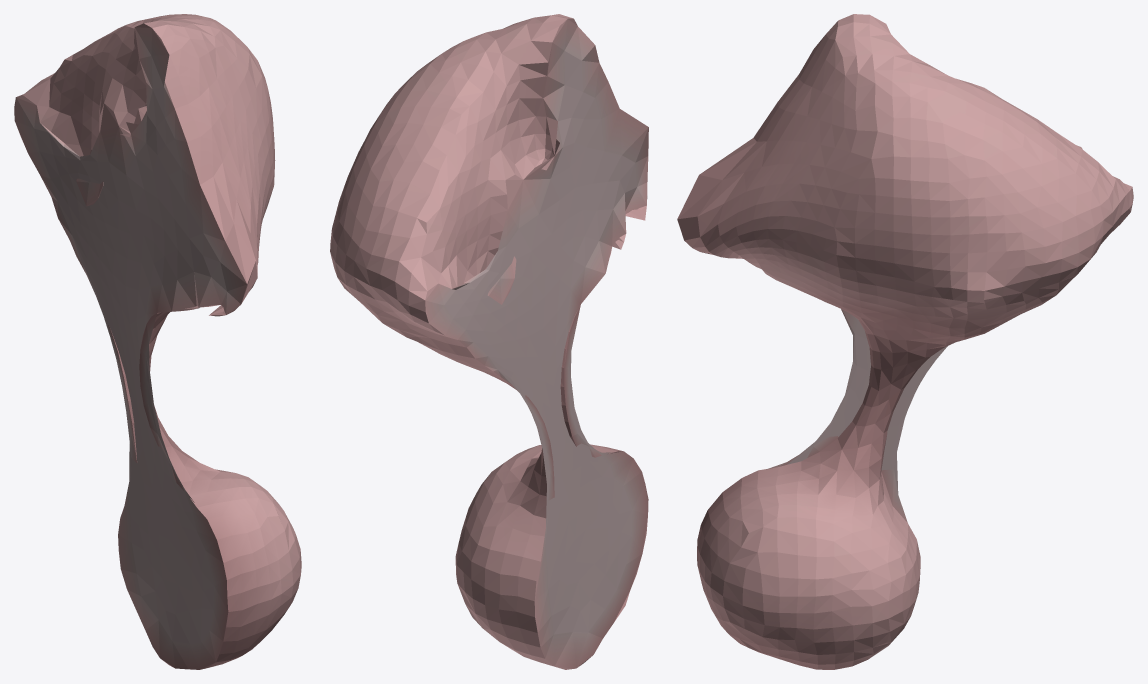
Rendered from Hypothalamus_and_pituitary.obj.
3 views of the same model, side by side, from view 1: azimuth 30°, elevation 25°; view 2: azimuth 150°, elevation 25°; view 3: azimuth 270°, elevation 25° (orthographic). The views are drawn at different scales.
Parts seen in each view (by area): view 1: obj0; view 2: obj0; view 3: obj0.
Part boxes in pixels (x1,y1,x2,y2): obj0: [14, 14, 301, 669]; obj0: [330, 14, 648, 669]; obj0: [677, 14, 1133, 669].
Size of the model in its own units: 3.78 by 13.98 by 9.01.
1 material, 1 textured.
